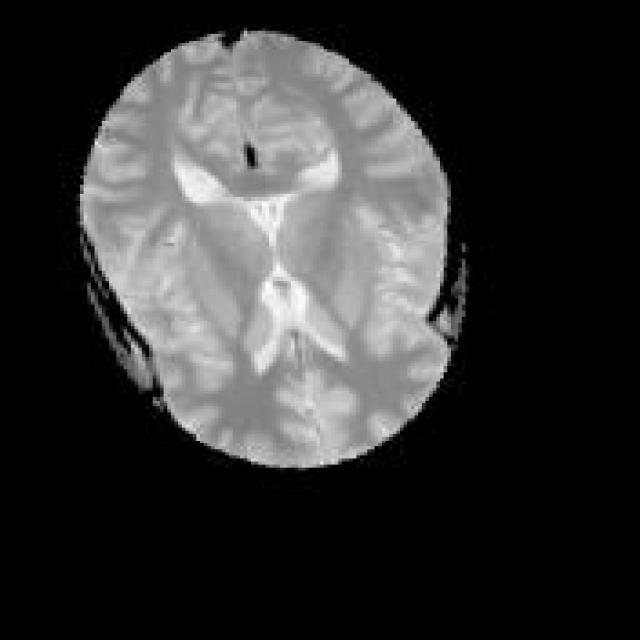parkinson: (73, 25, 469, 468)
